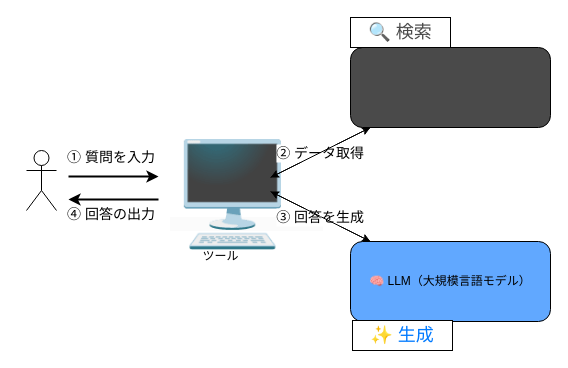
The diagram is 568 pixels wide and 368 high, and some of its shapes have lost their labels. Each missing label, with the box of its shape:
ユーザー: (26, 150, 56, 210)
📄 データベース （社内文書などのテキスト）: (350, 46, 550, 128)
